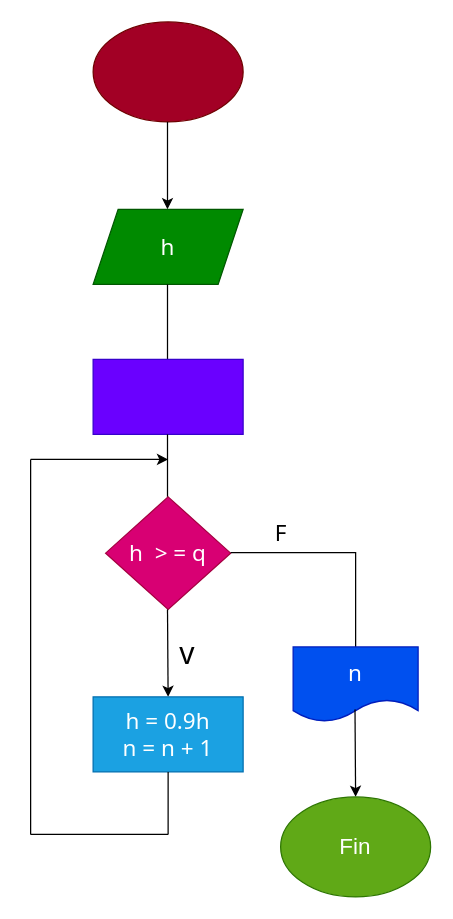
Some shapes in this 453 by 919 pixel diagram are drawn without their labels. Here are the shapes that lost their labels. From the top down, the centre of each, then its label:
At [167,71]: "Inicio".
At [167,396]: "q = h/5 n = 0".
